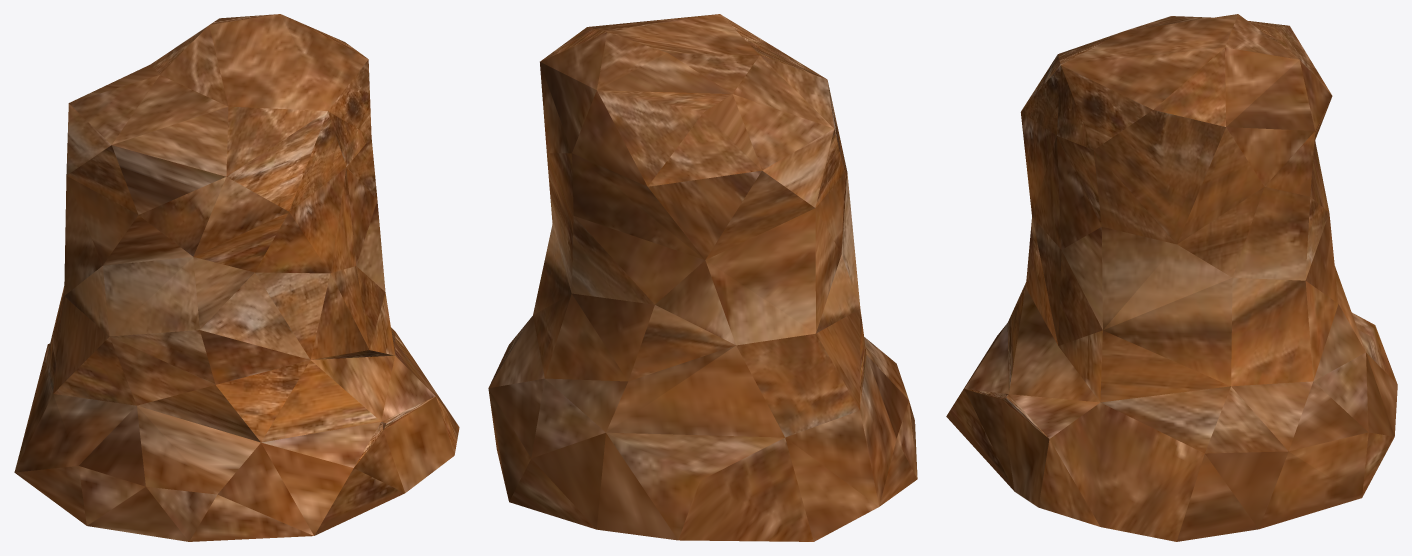
File: de_sandstone_stack_lod2.glb
3 renders of one model, left to right at view 1: azimuth 30°, elevation 25°; view 2: azimuth 150°, elevation 25°; view 3: azimuth 270°, elevation 25°, orthographic. The views are drawn at different scales.
Visible parts, largest first — view 1: mesh; view 2: mesh; view 3: mesh.
Boxes of the visible parts, bbox=[...] form: mesh: bbox=[14, 14, 459, 541]; mesh: bbox=[488, 14, 917, 541]; mesh: bbox=[946, 14, 1397, 541].
Size of the model in its own units: 1.79 by 1.85 by 1.73.
1 material, 1 textured.
